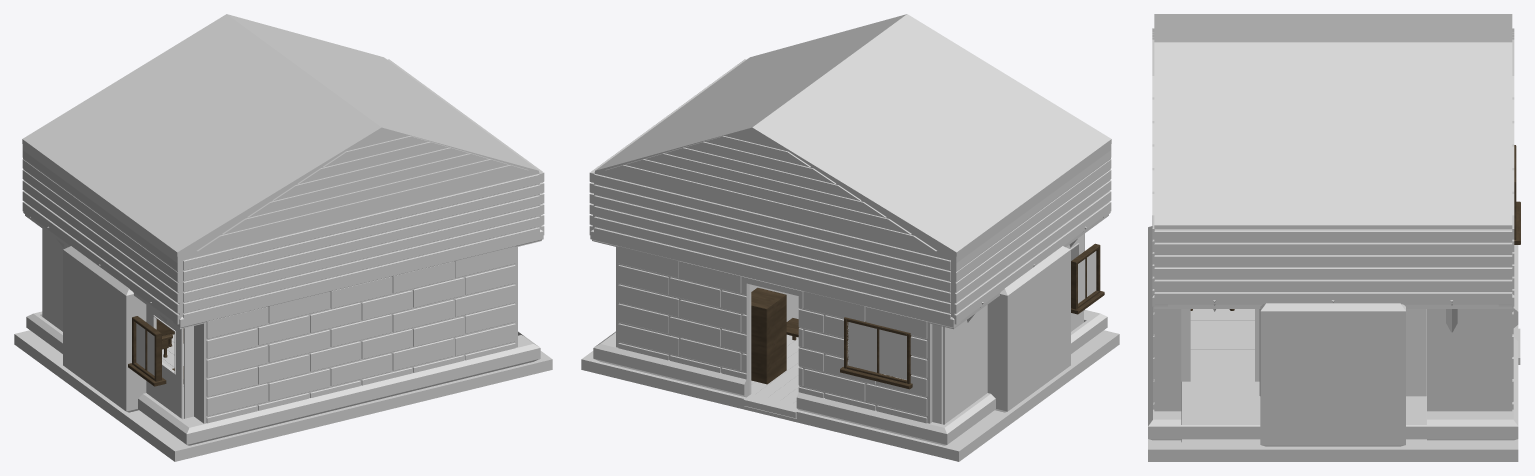
File: VillageWorkroom3D.fbx
3 renders of one model, left to right at view 1: azimuth 30°, elevation 25°; view 2: azimuth 150°, elevation 25°; view 3: azimuth 270°, elevation 25°, orthographic. The views are drawn at different scales.
Parts seen in each view (by area): view 1: GEO_Workroom_ShellWalls, GEO_Workroom_ShellPlinth, GEO_Workroom_ShellTimber, GEO_Workroom_LeftLining, GEO_Workroom_LeftWindowFrame, GEO_Workroom_RearLining, GEO_Workroom_LeftWindowGlass; view 2: GEO_Workroom_ShellWalls, GEO_Workroom_ShellPlinth, GEO_Workroom_ShellTimber, GEO_Workroom_LeftLining, GEO_Workroom_Cabinet, GEO_Workroom_FrontWindowGlass, GEO_Workroom_Floor, GEO_Workroom_FrontWindowFrame, GEO_Workroom_FrontLining, GEO_Workroom_LeftWindowFrame, GEO_Workroom_LeftWindowGlass; view 3: GEO_Workroom_ShellWalls, GEO_Workroom_ShellPlinth, GEO_Workroom_ShellTimber, GEO_Workroom_PrivateFloor, GEO_Workroom_Floor, GEO_Workroom_PrivateScreen, GEO_Workroom_PrivatePartition, GEO_Workroom_FrontWindowFrame.
Part boxes in pixels (x1,y1,x2,y2): GEO_Workroom_ShellWalls: [22, 14, 541, 329]; GEO_Workroom_ShellPlinth: [14, 246, 552, 461]; GEO_Workroom_ShellTimber: [22, 59, 544, 327]; GEO_Workroom_LeftLining: [42, 228, 183, 419]; GEO_Workroom_LeftWindowFrame: [128, 316, 166, 386]; GEO_Workroom_RearLining: [184, 326, 193, 418]; GEO_Workroom_LeftWindowGlass: [136, 323, 154, 375]; GEO_Workroom_ShellWalls: [592, 14, 1111, 329]; GEO_Workroom_ShellPlinth: [581, 233, 1119, 461]; GEO_Workroom_ShellTimber: [589, 59, 1111, 327]; GEO_Workroom_LeftLining: [943, 234, 1083, 424]; GEO_Workroom_Cabinet: [751, 287, 786, 384]; GEO_Workroom_FrontWindowGlass: [848, 322, 906, 379]; GEO_Workroom_Floor: [743, 334, 799, 418]; GEO_Workroom_FrontWindowFrame: [840, 317, 912, 389]; GEO_Workroom_FrontLining: [749, 284, 942, 424]; GEO_Workroom_LeftWindowFrame: [1071, 243, 1104, 314]; GEO_Workroom_LeftWindowGlass: [1078, 251, 1096, 303]; GEO_Workroom_ShellWalls: [1154, 14, 1512, 332]; GEO_Workroom_ShellPlinth: [1148, 226, 1518, 461]; GEO_Workroom_ShellTimber: [1152, 28, 1514, 306]; GEO_Workroom_PrivateFloor: [1181, 377, 1426, 442]; GEO_Workroom_Floor: [1190, 309, 1520, 377]; GEO_Workroom_PrivateScreen: [1259, 309, 1426, 396]; GEO_Workroom_PrivatePartition: [1181, 309, 1259, 381]; GEO_Workroom_FrontWindowFrame: [1514, 145, 1520, 244].
Bounding box in the file's own units: 7.58 × 5.36 × 5.57.
